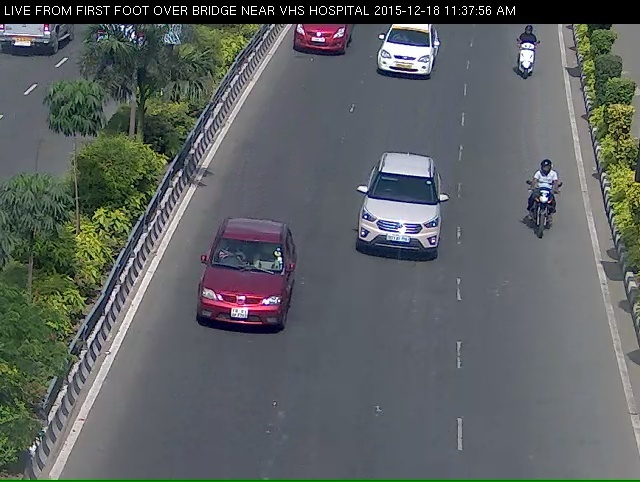Car: (345, 157, 459, 285), (197, 237, 291, 370), (371, 29, 450, 99), (284, 21, 358, 65)
Person: (515, 167, 565, 262), (511, 29, 547, 96)
